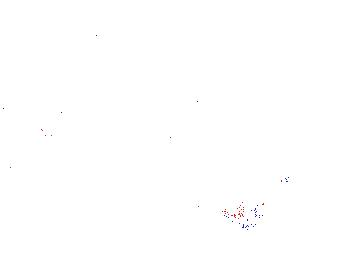flame jellyfish: (218, 186, 301, 248), (31, 73, 78, 138), (269, 166, 319, 216)
